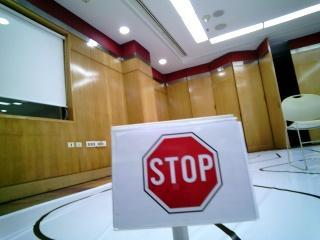stop: (125, 130, 234, 215)
